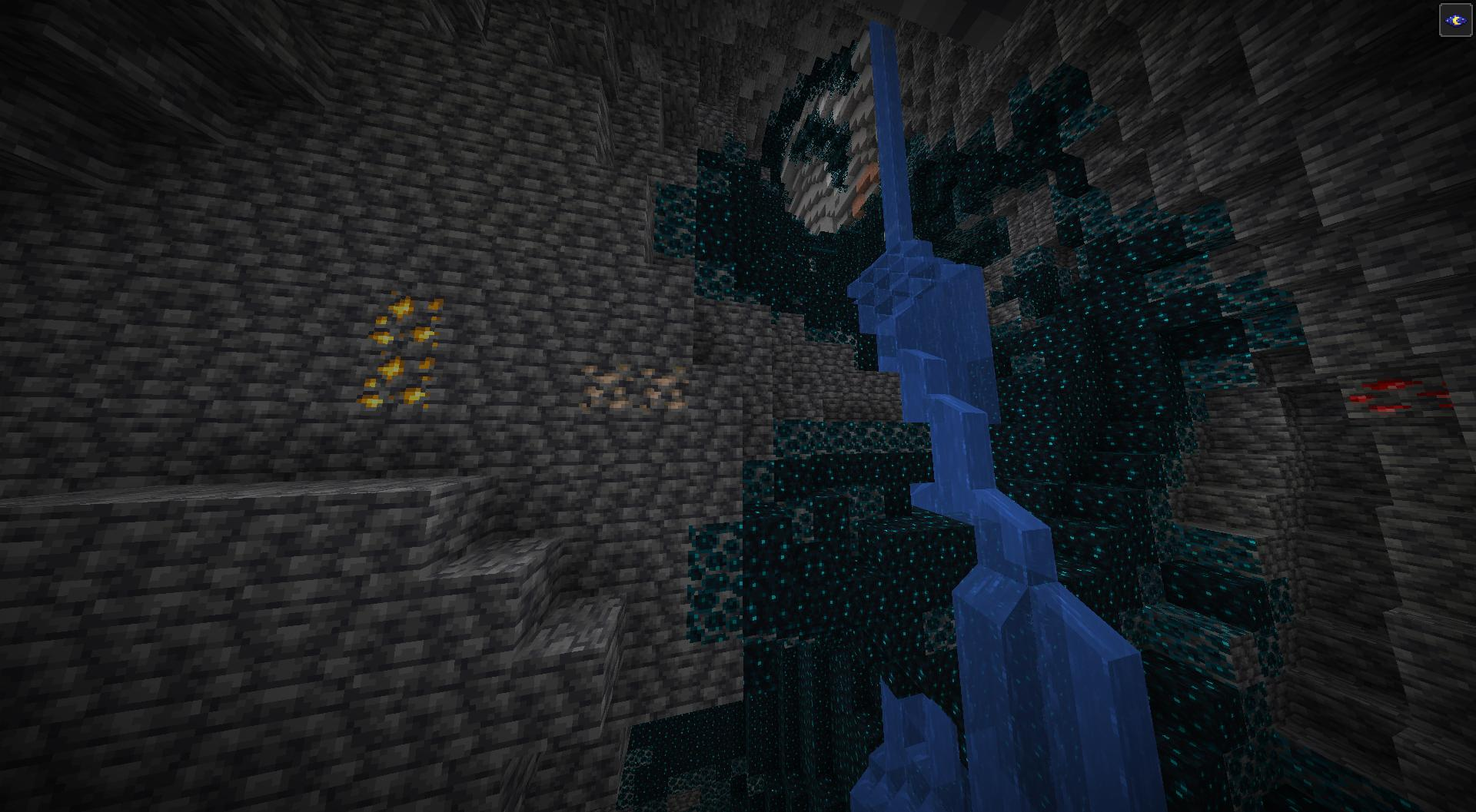gold ore: (368, 296, 447, 352), (364, 352, 437, 410)
iron ore: (638, 363, 690, 414), (579, 360, 631, 409)
redstone ore: (1348, 371, 1453, 429)
